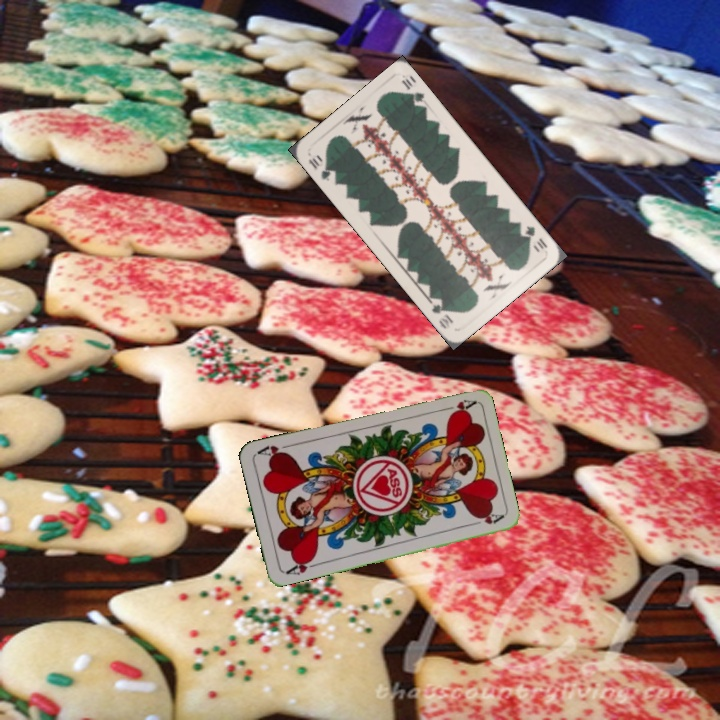G10: (304, 150, 334, 184), (520, 222, 550, 252)
HA: (282, 554, 322, 578), (437, 395, 477, 417)
